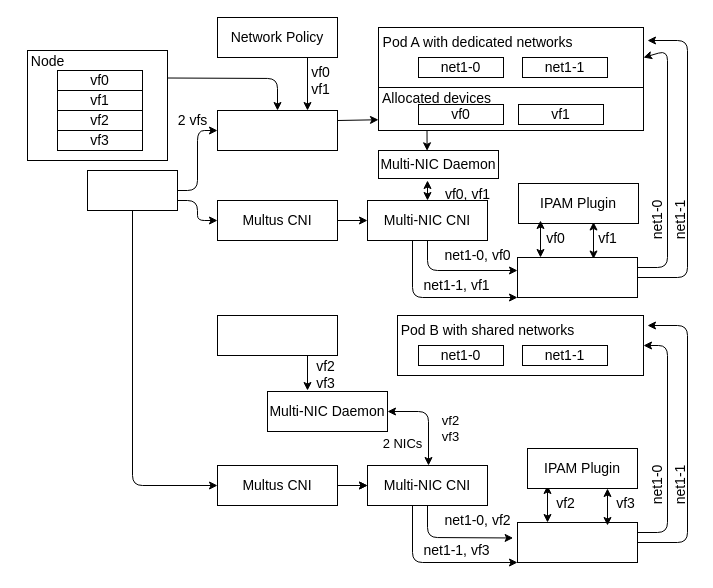
This 713x588 diagram has some shape labels left out. The shapes that lost their labels are listed below. From the top down, each one's centre as x and y in pixels, then its label:
At [277,130]: "Device Plugin".
At [132,190]: "Kubelet".
At [577,277]: "host-device".
At [277,335]: "MultiNicNetwork Policy".
At [577,542]: "ipvlan".
